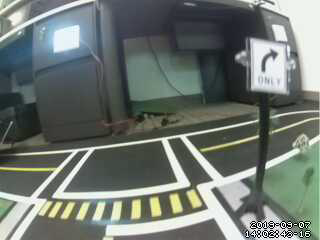Right_only_sign: (253, 38, 295, 99)
